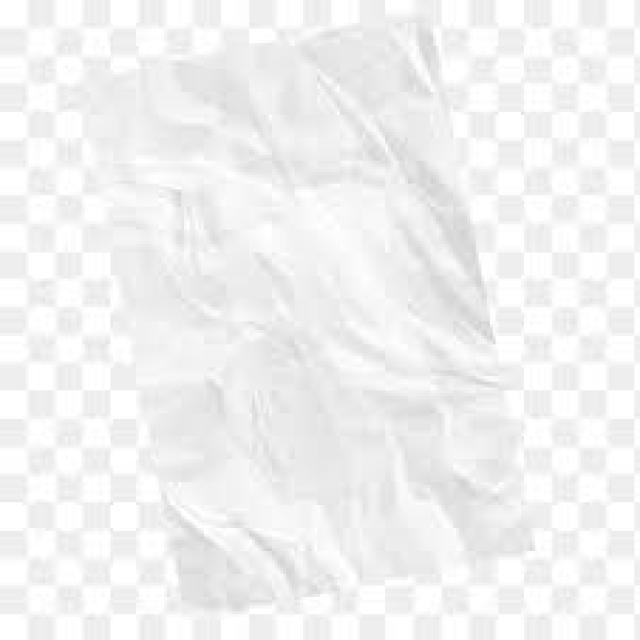paper: (133, 9, 532, 600)
